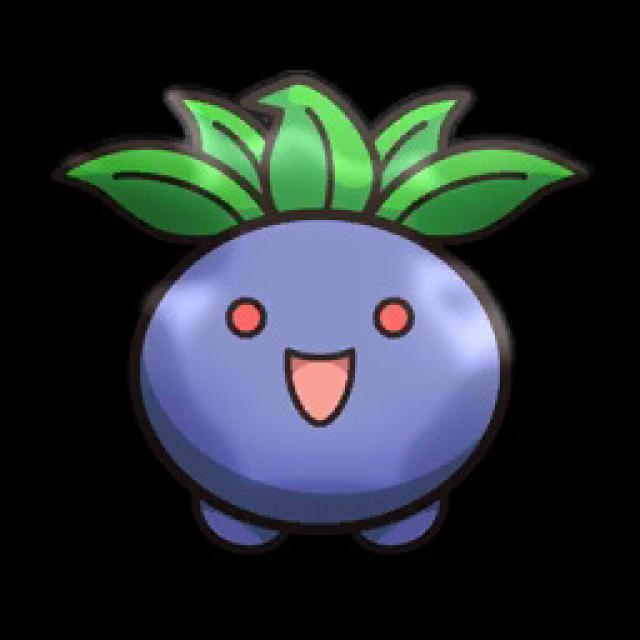Oddish: (145, 85, 508, 552)
